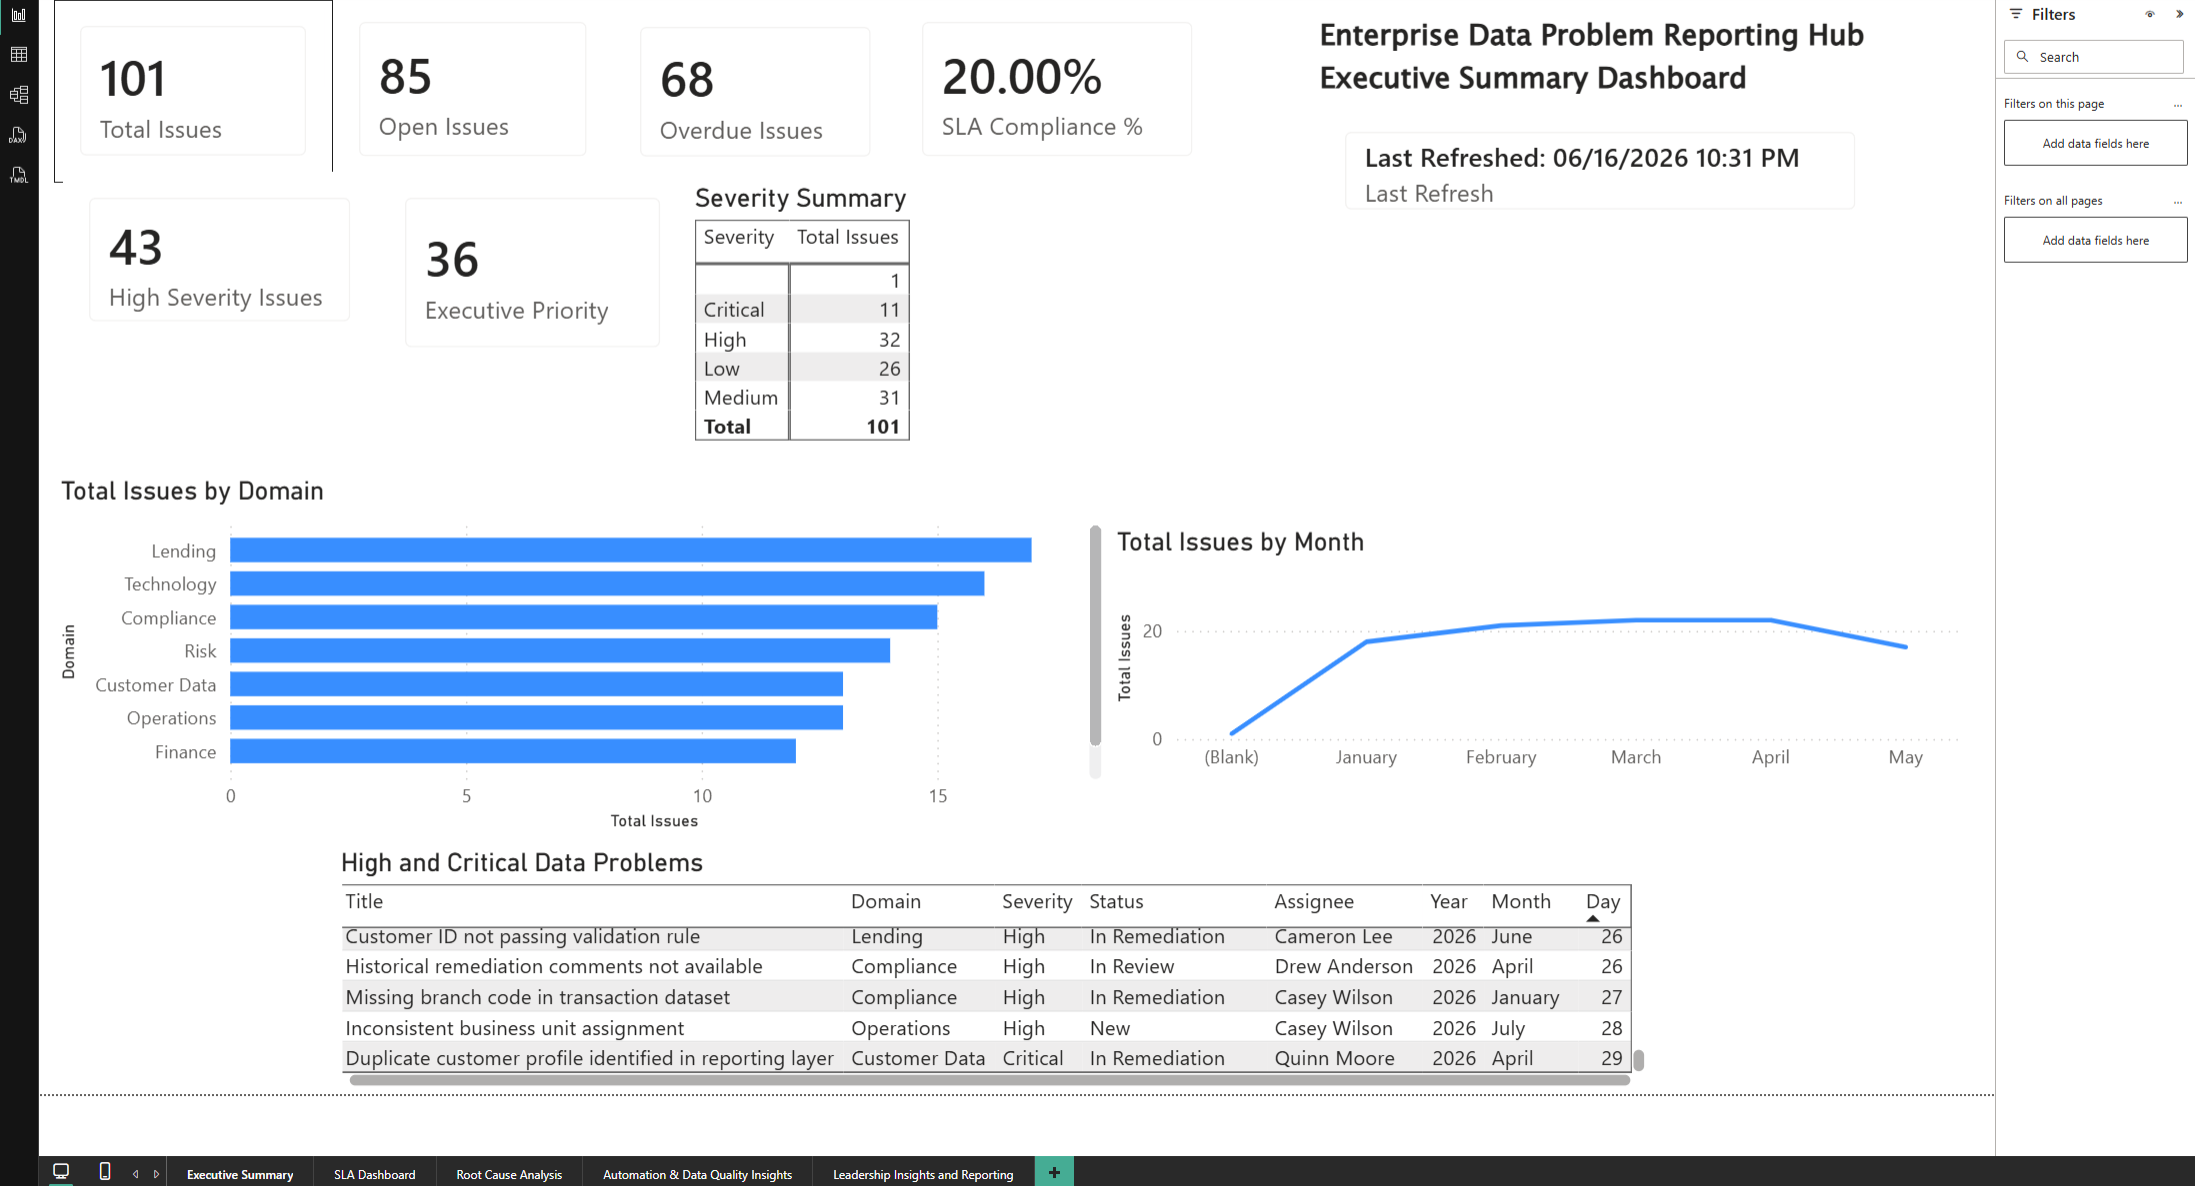

The page's visual inventory and layout, read from the dashboard file:
{"tool":"powerbi","page":{"name":"Executive Summary","canvas":[1280,720],"ordinal":0},"visuals":[{"type":"cardVisual","fields":{"Data":["Data Problems.Total Issues"]},"box":[9.8,3.3,182.5,119.7],"z":0},{"type":"cardVisual","fields":{"Data":["Data Problems.Open Issues"]},"box":[192.3,0.7,183.8,122.3],"z":1000},{"type":"cardVisual","fields":{"Data":["Data Problems.Overdue Issues"]},"box":[376,3.9,185.1,119],"z":2000},{"type":"cardVisual","fields":{"Data":["Data Problems.SLA Compliance %"]},"box":[561.1,0.7,211.9,122.3],"z":3000},{"type":"cardVisual","fields":{"Data":["Data Problems.High Severity Issues"]},"box":[15.7,115.7,206,115.7],"z":4000},{"type":"clusteredBarChart","fields":{"Category":["Data Problems.Domain"],"Y":["Data Problems.Total Issues"]},"box":[9.2,314.6,691.2,236.7],"z":5000},{"type":"pivotTable","title":"Severity Summary","fields":{"Rows":["Data Problems.Severity"],"Values":["Data Problems.Total Issues"]},"box":[424,123.2,159.5,178.7],"z":6000},{"type":"lineChart","fields":{"Category":["Data Problems.Date Submitted.Variation.Date Hierarchy.Month"],"Y":["Data Problems.Total Issues"]},"box":[699.9,348.2,561.7,169.2],"z":7000},{"type":"tableEx","title":"Active Critical and High Data Problems","fields":{"Values":["Data Problems.Title ","Data Problems.Domain","Data Problems.Severity","Data Problems.Status","Data Problems.Target Date.Variation.Date Hierarchy.Year","Data Problems.Target Date.Variation.Date Hierarchy.Month","Data Problems.Target Date.Variation.Date Hierarchy.Day","Data Problems.Assignee"]},"box":[191.4,558.1,879.7,163],"z":8000},{"type":"textbox","box":[833.1,7.8,446,74.6],"z":9000},{"type":"cardVisual","fields":{"Data":["Data Problems.Last Refresh"]},"box":[837.7,72.6,368.2,85.7],"z":10000},{"type":"cardVisual","fields":{"Data":["Data Problems.Executive Priority"]},"box":[222.4,116.1,202,132],"z":11000}]}

Visuals, with their boxes on the page's 1280x720 design canvas (x1, y1, x2, y2). These are canvas units, not pixel positions in the 2195x1186 screenshot, which may show the page scaled, cropped or inside an application window:
cardVisual - Data Problems.Total Issues: 10/3/192/123
cardVisual - Data Problems.Open Issues: 192/1/376/123
cardVisual - Data Problems.Overdue Issues: 376/4/561/123
cardVisual - Data Problems.SLA Compliance %: 561/1/773/123
cardVisual - Data Problems.High Severity Issues: 16/116/222/231
clusteredBarChart - Data Problems.Domain x Data Problems.Total Issues: 9/315/700/551
"Severity Summary" pivotTable: 424/123/584/302
lineChart - Data Problems.Date Submitted.Variation.Date Hierarchy.Month x Data Problems.Total Issues: 700/348/1262/517
"Active Critical and High Data Problems" tableEx: 191/558/1071/721
textbox: 833/8/1279/82
cardVisual - Data Problems.Last Refresh: 838/73/1206/158
cardVisual - Data Problems.Executive Priority: 222/116/424/248
